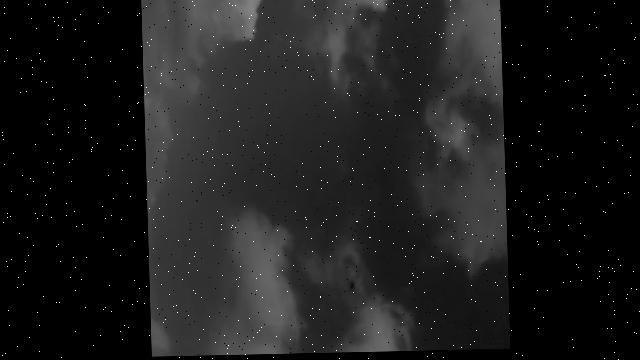drone: (346, 280, 356, 296)
